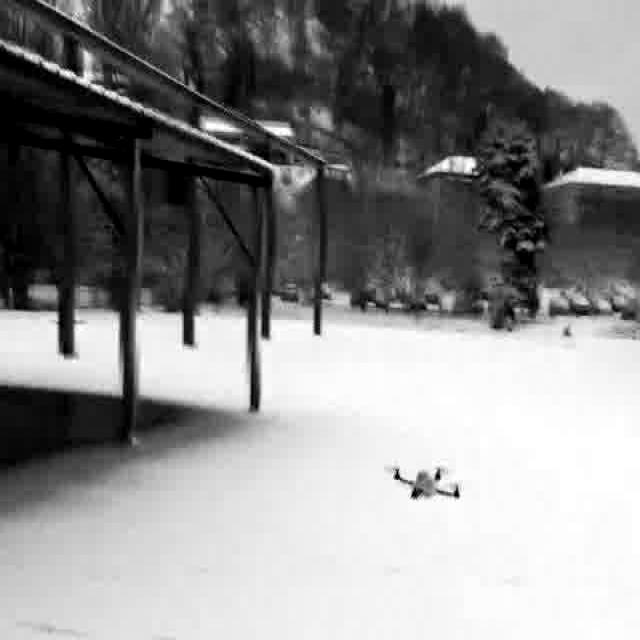drone: (379, 452, 467, 519)
